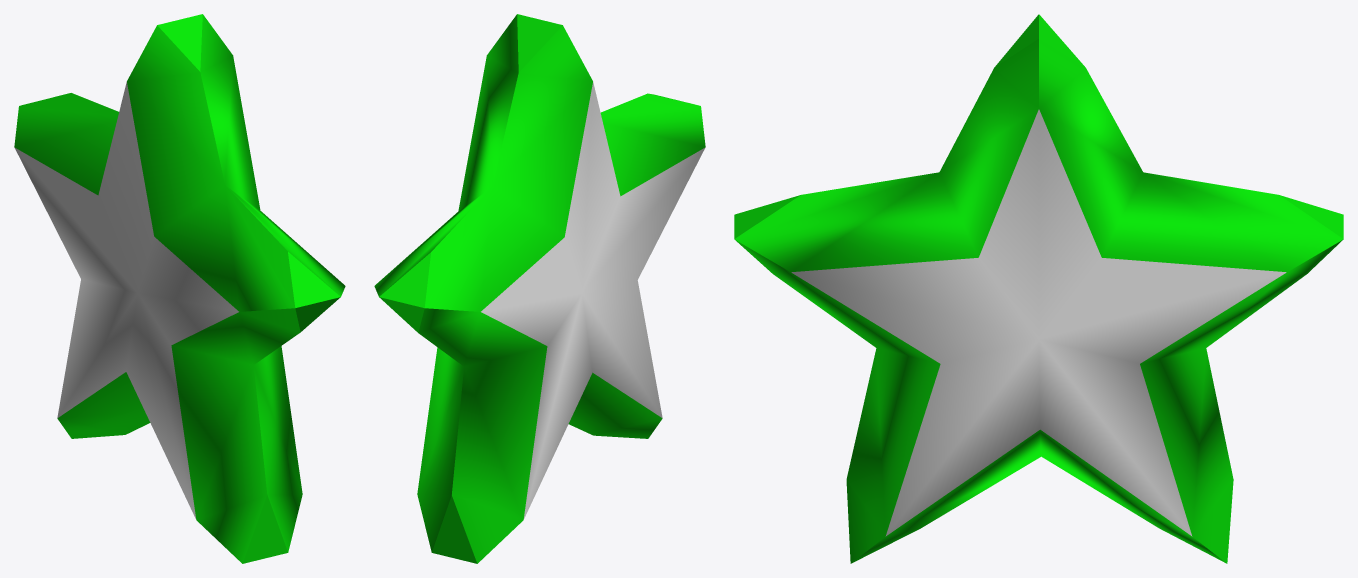
Rendered from gstar.fbx.
3 renders of one model, left to right at view 1: azimuth 30°, elevation 25°; view 2: azimuth 150°, elevation 25°; view 3: azimuth 270°, elevation 25°, orthographic. The views are drawn at different scales.
Parts seen in each view (by area): view 1: pSphere3; view 2: pSphere3; view 3: pSphere3.
Part boxes in pixels (<box>): pSphere3: <box>14,14,345,563</box>; pSphere3: <box>374,14,705,563</box>; pSphere3: <box>734,14,1343,563</box>.
Size of the model in its own units: 0.187 by 0.8005 by 0.8417.
